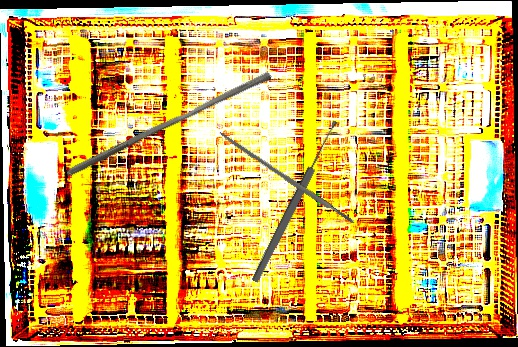Pusher: (63, 63, 274, 186)
Scalpel Handle: (217, 129, 357, 228)
Surgical Spoon: (249, 119, 342, 284)
